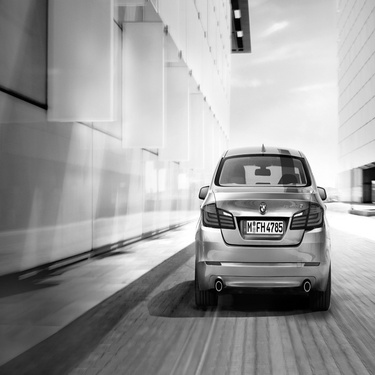car: (186, 132, 334, 316)
